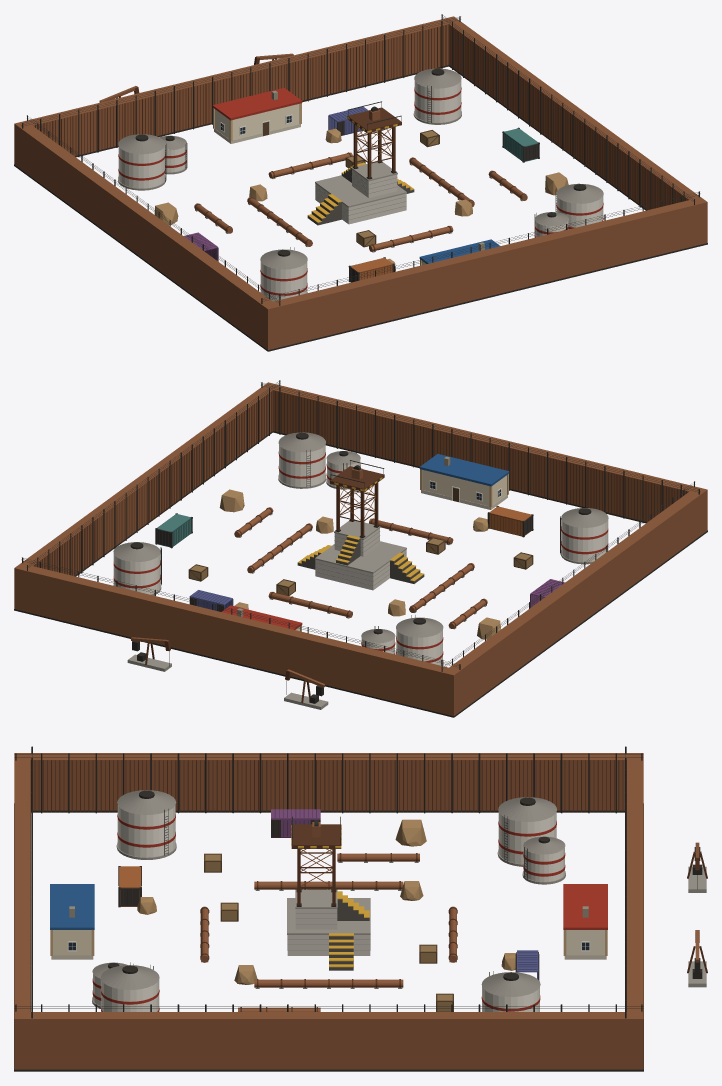
File: refinaria.glb
3 renders of one model, top to bottom at view 1: azimuth 30°, elevation 25°; view 2: azimuth 150°, elevation 25°; view 3: azimuth 270°, elevation 25°, orthographic. The views are drawn at different scales.
Parts seen in each view (by area): view 1: map_rust.002, map_rust_d.002, map_steel_d.008, map_silo_white.002, map_steel_l.005, map_roof_red.011, map_concrete_d.005, map_concrete.003, map_rock.005, map_wall_2.008, map_roof_blue.008, map_steel.008 (+4 smaller); view 2: map_rust.002, map_rust_d.002, map_steel_d.008, map_silo_white.002, map_steel_l.005, map_concrete_d.005, map_roof_red.011, map_concrete.003, map_rock.005, map_wall_0.008, map_roof_blue.008, map_steel.008 (+7 smaller); view 3: map_rust.002, map_rust_d.002, map_steel_d.008, map_silo_white.002, map_steel_l.005, map_concrete_d.005, map_roof_red.011, map_concrete.003, map_roof_blue.008, map_rock.005, map_wood.013, map_steel.008 (+8 smaller).
Part boxes in pixels (<box>): map_rust.002: <box>14,16,707,349</box>; map_rust_d.002: <box>35,24,687,251</box>; map_steel_d.008: <box>14,14,707,351</box>; map_silo_white.002: <box>118,80,603,301</box>; map_steel_l.005: <box>118,68,603,269</box>; map_roof_red.011: <box>118,87,603,295</box>; map_concrete_d.005: <box>118,111,522,293</box>; map_concrete.003: <box>315,170,406,224</box>; map_rock.005: <box>154,128,568,271</box>; map_wall_2.008: <box>215,104,299,139</box>; map_roof_blue.008: <box>419,239,499,263</box>; map_steel.008: <box>307,167,414,225</box>; map_rust.002: <box>14,382,707,715</box>; map_rust_d.002: <box>34,390,686,703</box>; map_steel_d.008: <box>14,380,707,717</box>; map_silo_white.002: <box>113,444,608,665</box>; map_steel_l.005: <box>113,432,608,643</box>; map_concrete_d.005: <box>113,475,608,709</box>; map_roof_red.011: <box>113,451,608,662</box>; map_concrete.003: <box>315,528,406,590</box>; map_rock.005: <box>219,489,501,639</box>; map_wall_0.008: <box>422,470,506,505</box>; map_roof_blue.008: <box>419,454,509,486</box>; map_steel.008: <box>297,537,424,583</box>; map_rust.002: <box>14,753,699,1069</box>; map_rust_d.002: <box>30,760,707,1011</box>; map_steel_d.008: <box>14,746,702,1071</box>; map_silo_white.002: <box>93,805,564,1011</box>; map_steel_l.005: <box>92,790,565,996</box>; map_concrete_d.005: <box>92,842,706,1008</box>; map_roof_red.011: <box>92,814,607,1011</box>; map_concrete.003: <box>287,909,370,955</box>; map_roof_blue.008: <box>50,884,94,929</box>; map_rock.005: <box>137,819,516,984</box>; map_wood.013: <box>205,854,452,1011</box>; map_steel.008: <box>329,899,369,970</box>.
Size of the model in its own units: 76.06 by 16.51 by 83.8.
